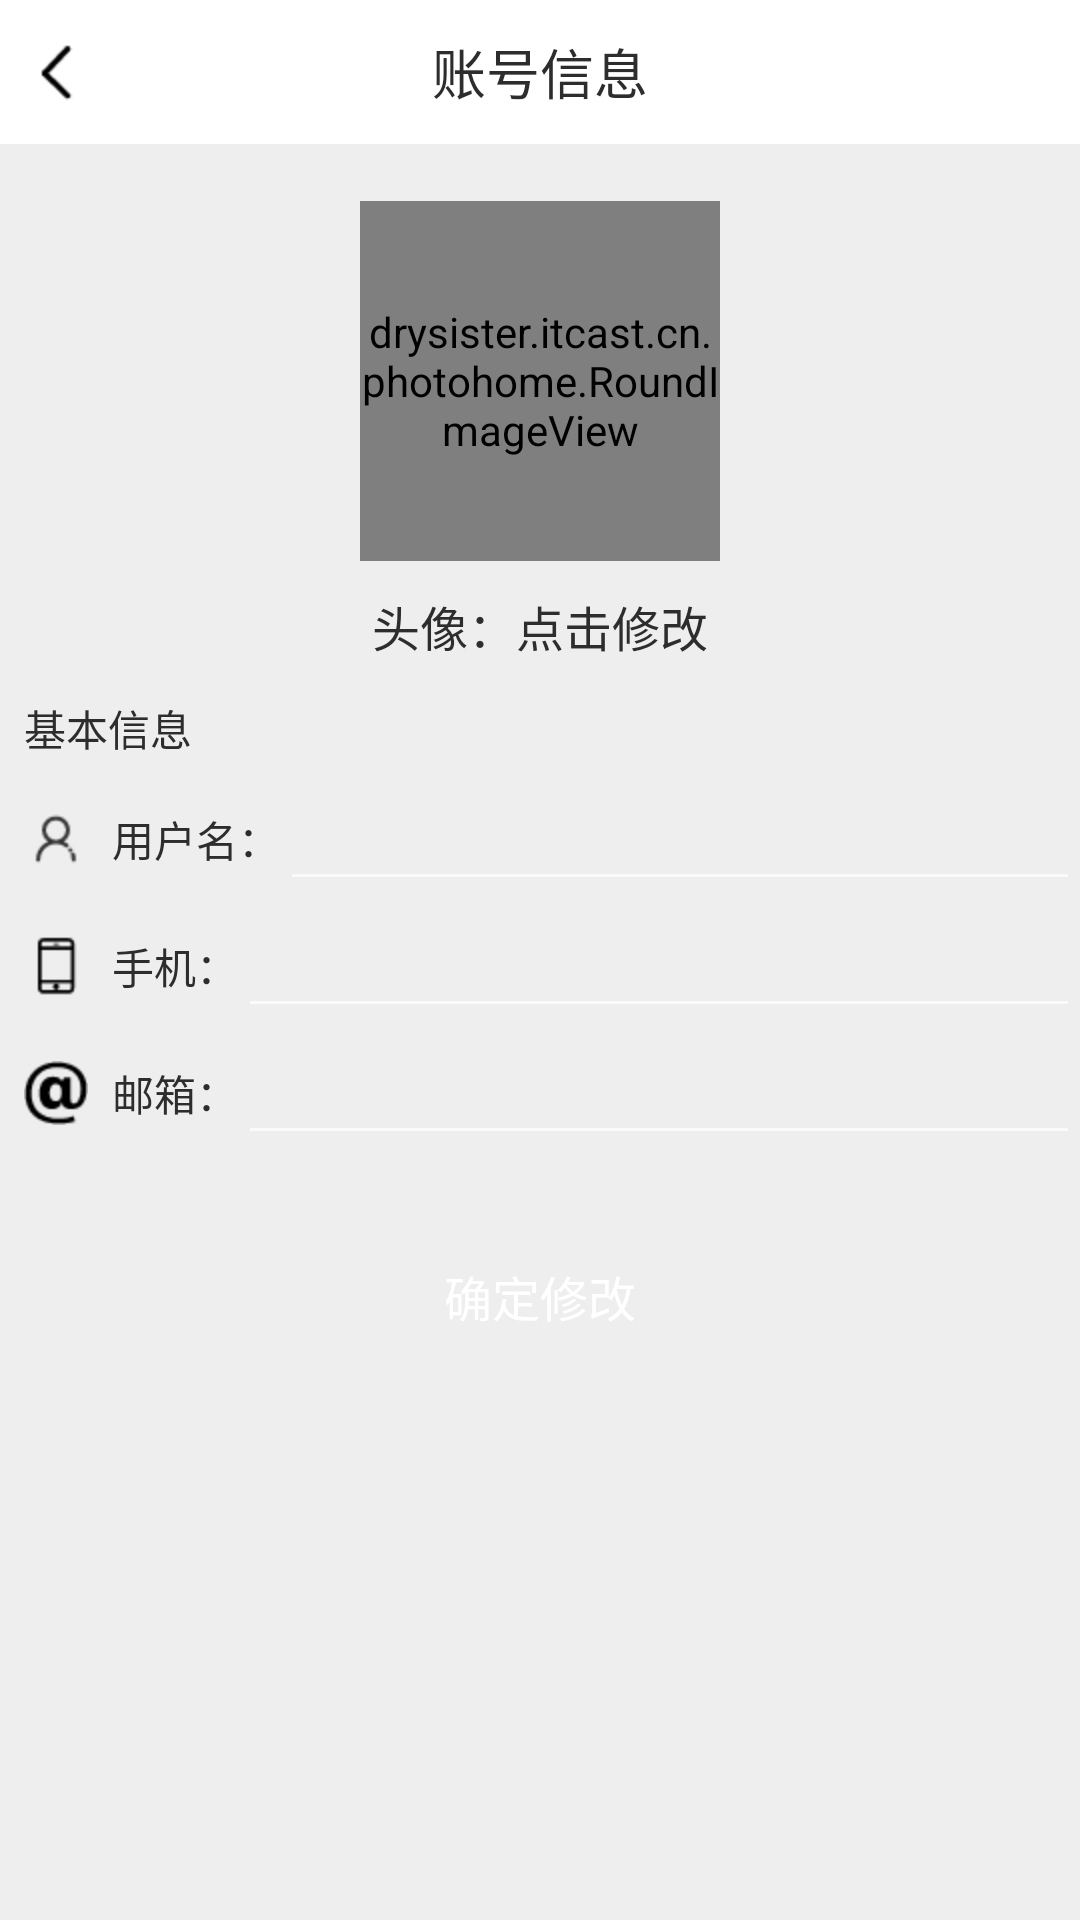

Icons on this 1080px×1920px Android screen, each with the point to tap as (x=x, y=y):
back: (x=56, y=72)
contexthone: (x=56, y=966)
email: (x=56, y=1093)
user personal: (x=56, y=839)
